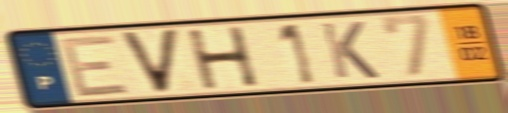1: (276, 21, 318, 86)
7: (376, 11, 440, 82)
E: (57, 32, 133, 100)
H: (183, 24, 263, 92)
K: (317, 20, 383, 81)
V: (116, 26, 183, 97)
